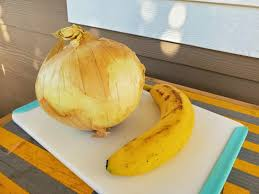banana: (105, 83, 194, 177)
onion: (34, 24, 146, 135)
